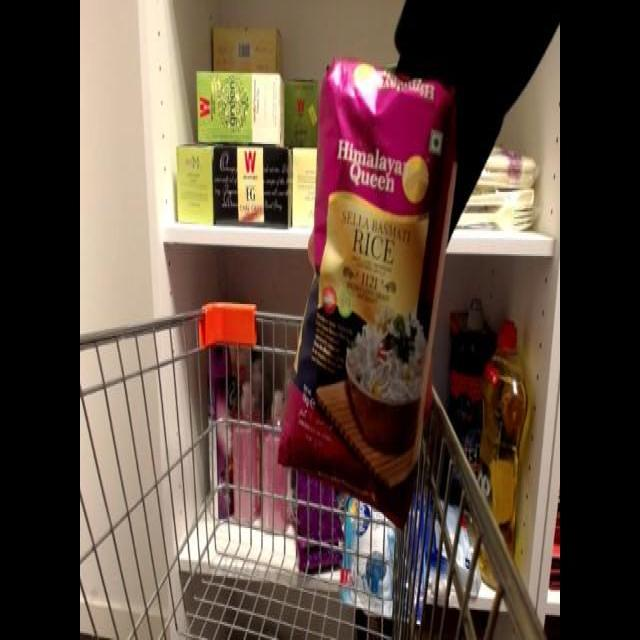Basmati Rice: (274, 58, 458, 524)
